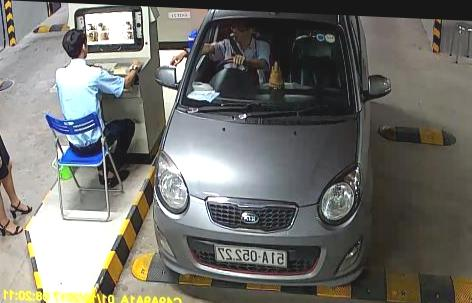License_Plate: (212, 244, 288, 269)
